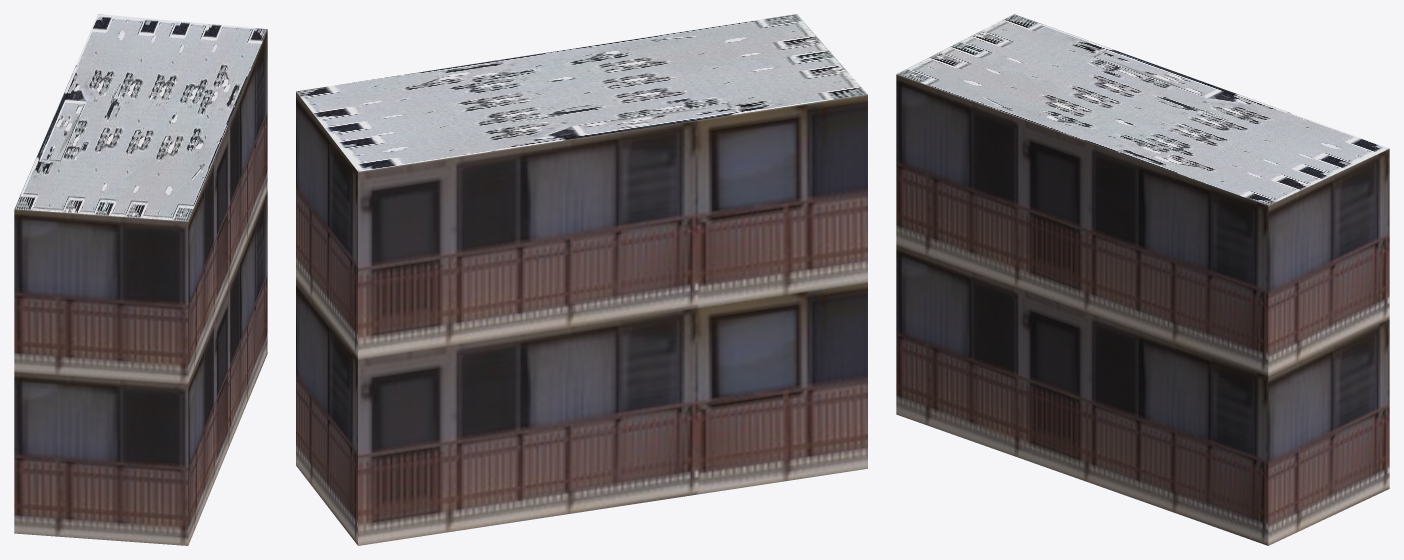
The model's file is ResTex__236.fbx.
The picture shows the model from 3 angles, left to right: view 1: azimuth 30°, elevation 25°; view 2: azimuth 150°, elevation 25°; view 3: azimuth 270°, elevation 25°; orthographic projection. The views are drawn at different scales.
Visible parts, largest first — view 1: CityEngineMaterial_6_m, CityEngineMaterial_4_m; view 2: CityEngineMaterial_6_m, CityEngineMaterial_4_m; view 3: CityEngineMaterial_6_m, CityEngineMaterial_4_m.
Part boxes in pixels (box(x1,y1,x2,y2)): CityEngineMaterial_6_m: box(14, 30, 267, 545); CityEngineMaterial_4_m: box(14, 14, 267, 221); CityEngineMaterial_6_m: box(296, 92, 867, 545); CityEngineMaterial_4_m: box(296, 14, 867, 171); CityEngineMaterial_6_m: box(896, 74, 1389, 545); CityEngineMaterial_4_m: box(896, 14, 1389, 205).
Bounding box in the file's own units: 7.25 × 6 × 7.89.
Materials: 2 (2 with a texture image).
